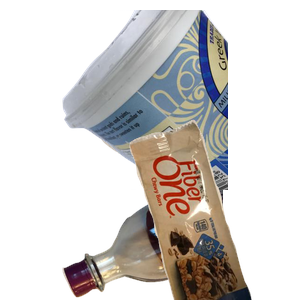glass: (60, 180, 300, 300)
metal: (90, 44, 289, 195)
plastic: (60, 10, 300, 190)
trash: (127, 120, 300, 300)
